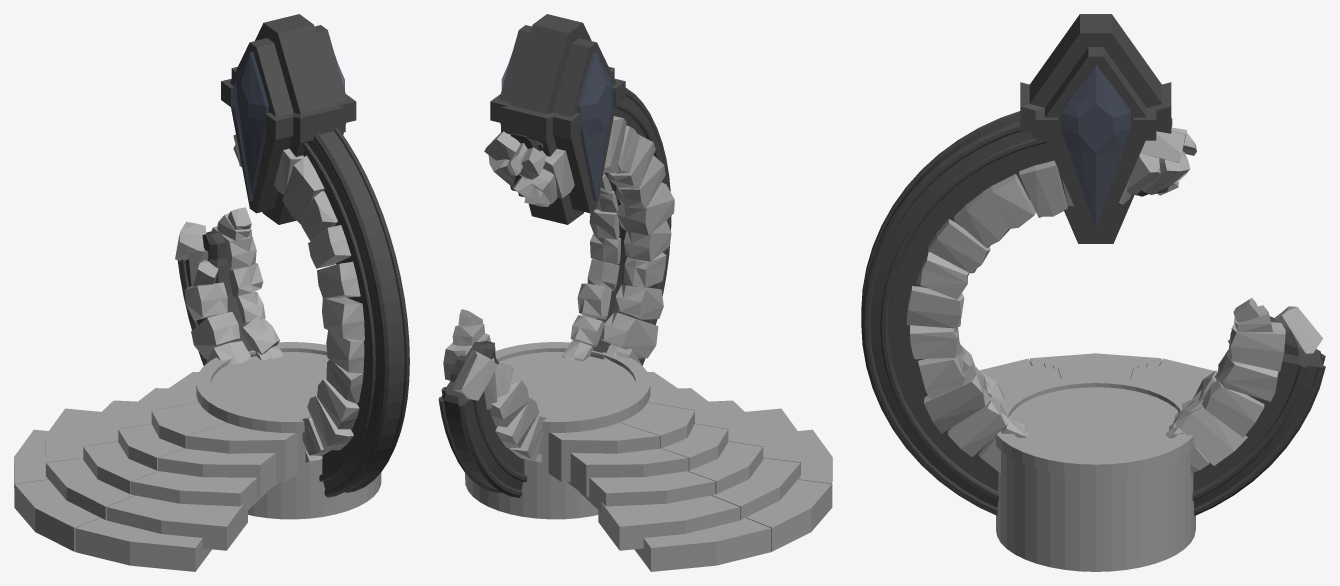
File: Portal.fbx
3 views of the same model, side by side, from view 1: azimuth 30°, elevation 25°; view 2: azimuth 150°, elevation 25°; view 3: azimuth 270°, elevation 25° (orthographic). The views are drawn at different scales.
Visible parts, largest first — view 1: group4_pCube388; view 2: group4_pCube388; view 3: group4_pCube388.
Boxes of the visible parts, box(x1,y1,x2,y2) form: group4_pCube388: box(14, 14, 409, 571); group4_pCube388: box(438, 14, 832, 571); group4_pCube388: box(861, 14, 1325, 571).
Size of the model in its own units: 136 by 176 by 147.
